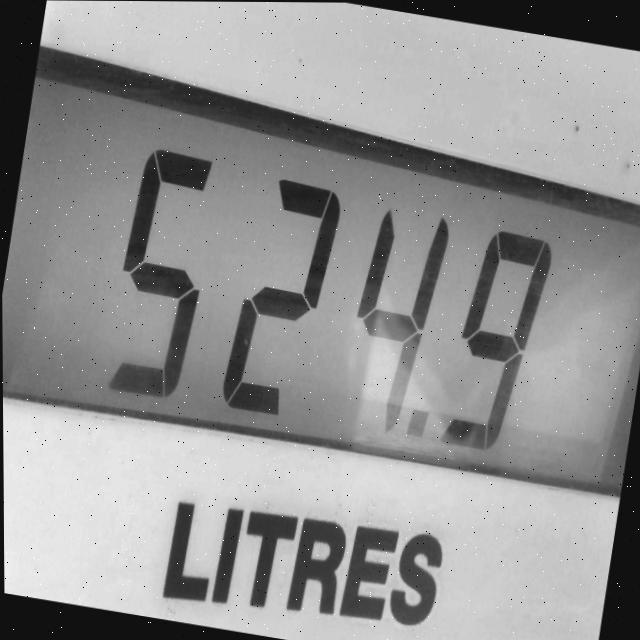.: (397, 383, 440, 454)
2: (206, 168, 348, 439)
4: (315, 177, 460, 453)
5: (87, 135, 238, 410)
9: (427, 201, 574, 472)
